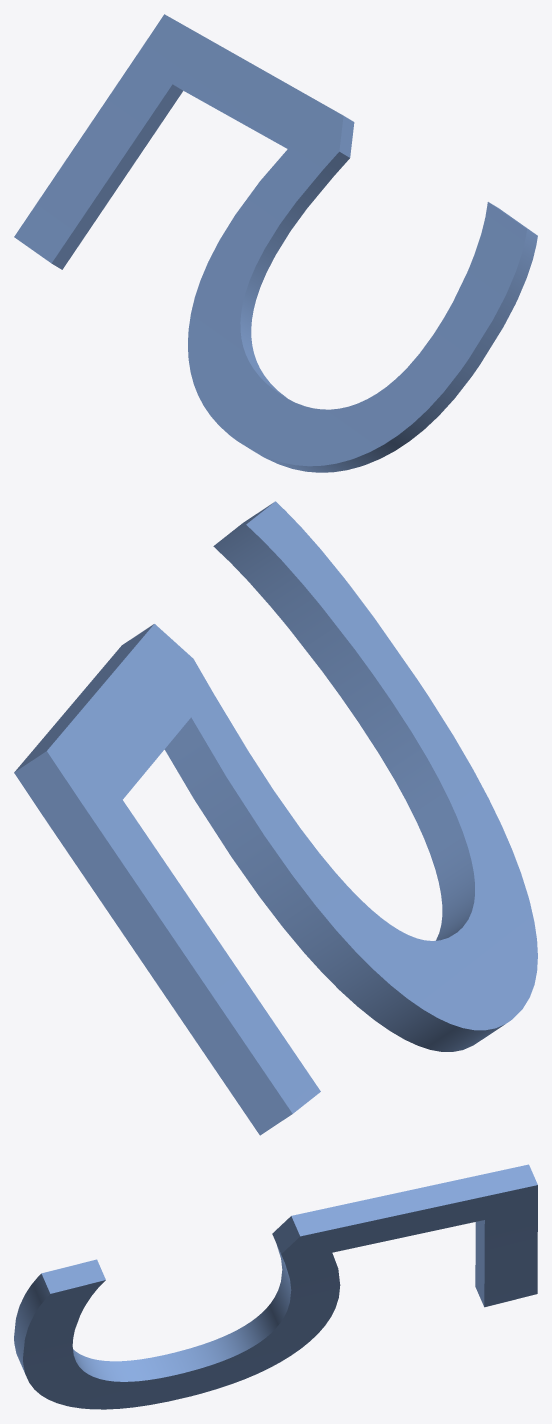
The model's file is New_Number_5.gltf.
3 views of the same model, one above another, from view 1: azimuth 30°, elevation 25°; view 2: azimuth 150°, elevation 25°; view 3: azimuth 270°, elevation 25° (orthographic). The views are drawn at different scales.
Parts seen in each view (by area): view 1: Part 599; view 2: Part 599; view 3: Part 599.
Part boxes in pixels (x1=…): Part 599: x1=14, y1=14, x2=537, y2=472; Part 599: x1=14, y1=501, x2=537, y2=1135; Part 599: x1=14, y1=1164, x2=537, y2=1409.
Bounding box in the file's own units: 0.00325 × 0.00322 × 0.00549.
